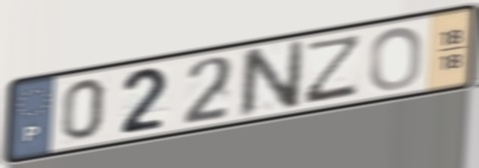0: (59, 76, 109, 144)
2: (116, 64, 173, 139), (180, 54, 236, 128)
N: (238, 36, 308, 121)
O: (367, 24, 425, 92)
Z: (300, 31, 366, 107)
